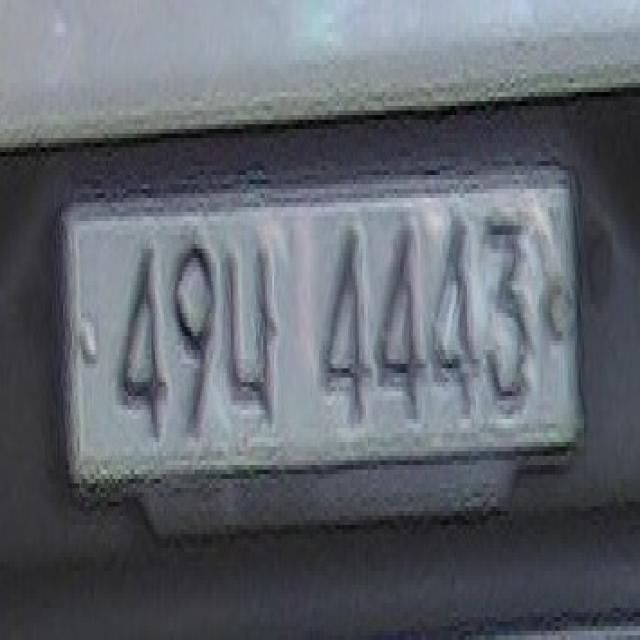3: (486, 212, 534, 429)
4: (314, 212, 371, 462), (428, 210, 482, 450), (114, 242, 172, 464), (374, 212, 424, 462)
9: (174, 234, 219, 446)
license_plate: (58, 156, 584, 488)
na: (222, 232, 282, 444)
